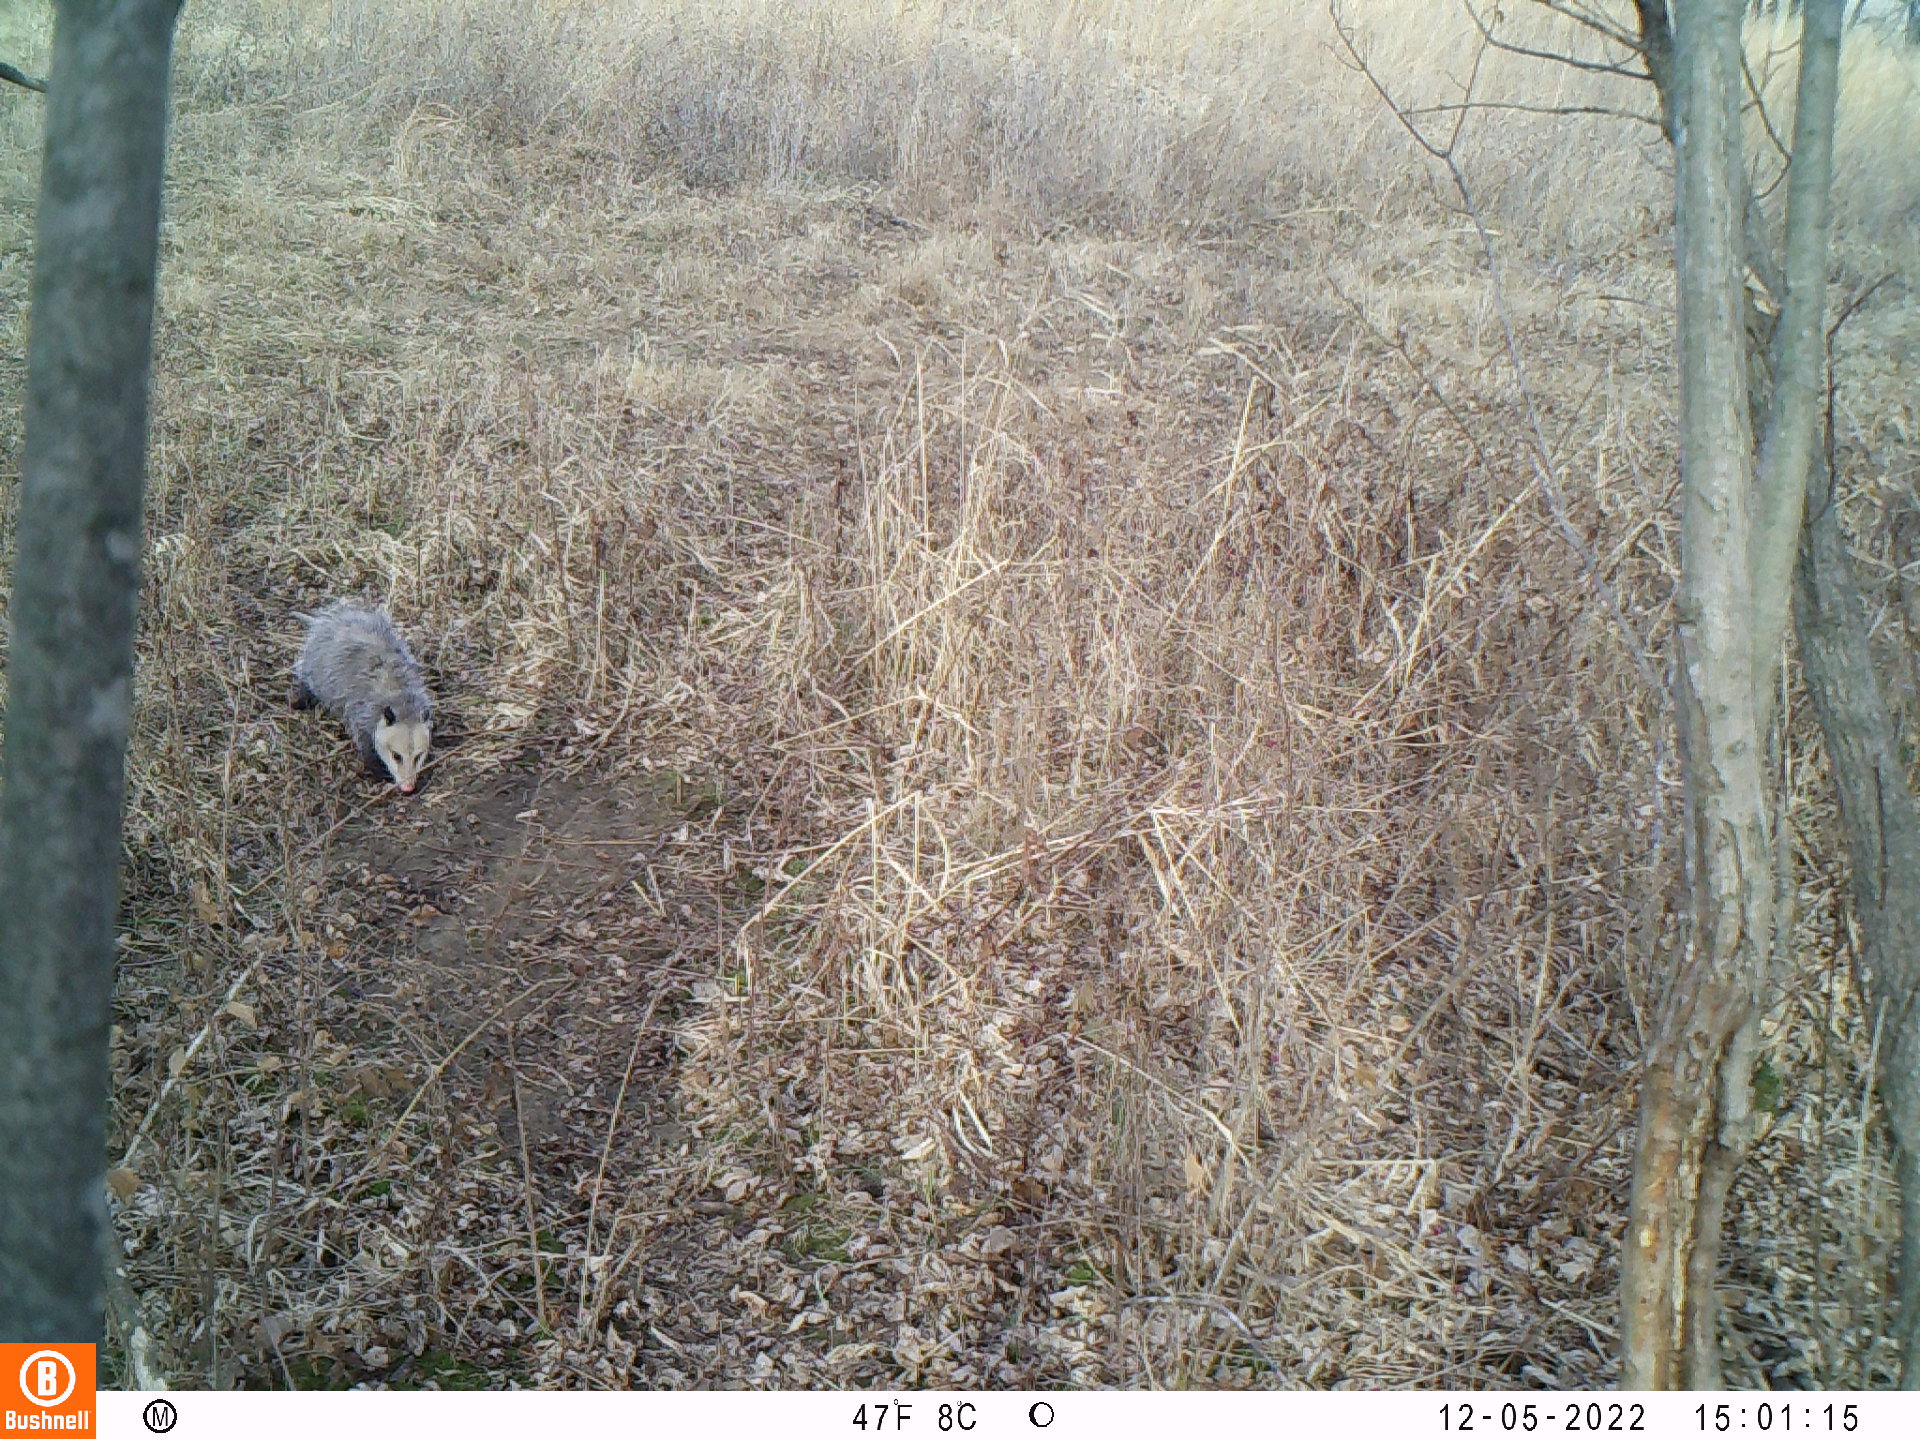Possum: (290, 596, 432, 790)
